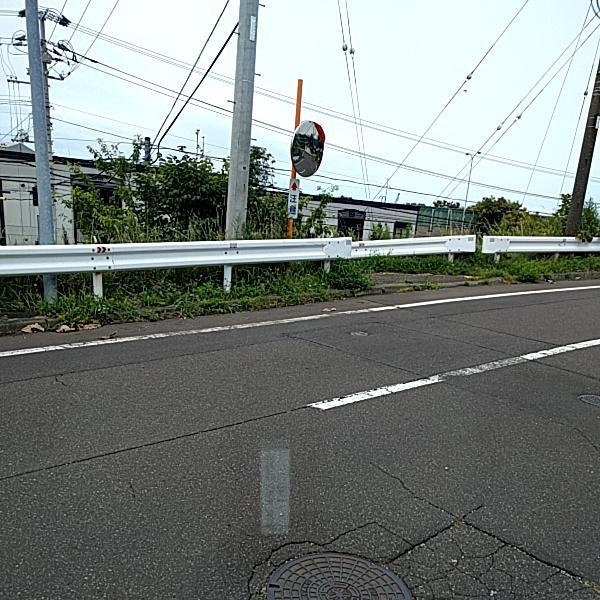D10: (359, 458, 455, 517)
D20: (220, 460, 599, 598)
D44: (407, 335, 599, 370)
D50: (258, 551, 408, 599), (572, 392, 599, 406), (348, 327, 371, 332)
